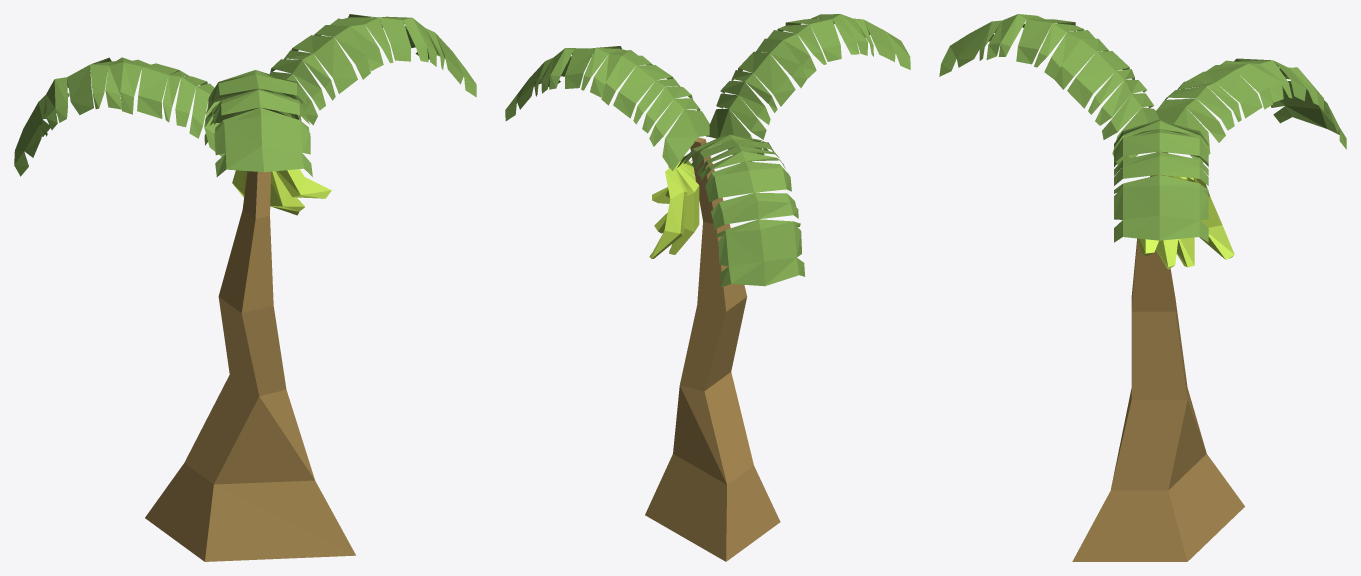
File: obj_banana_tree_5_0.obj
3 views of the same model, side by side, from view 1: azimuth 30°, elevation 25°; view 2: azimuth 150°, elevation 25°; view 3: azimuth 270°, elevation 25° (orthographic). The views are drawn at different scales.
Bounding box in the file's own units: 1.86 × 2.41 × 1.82.
